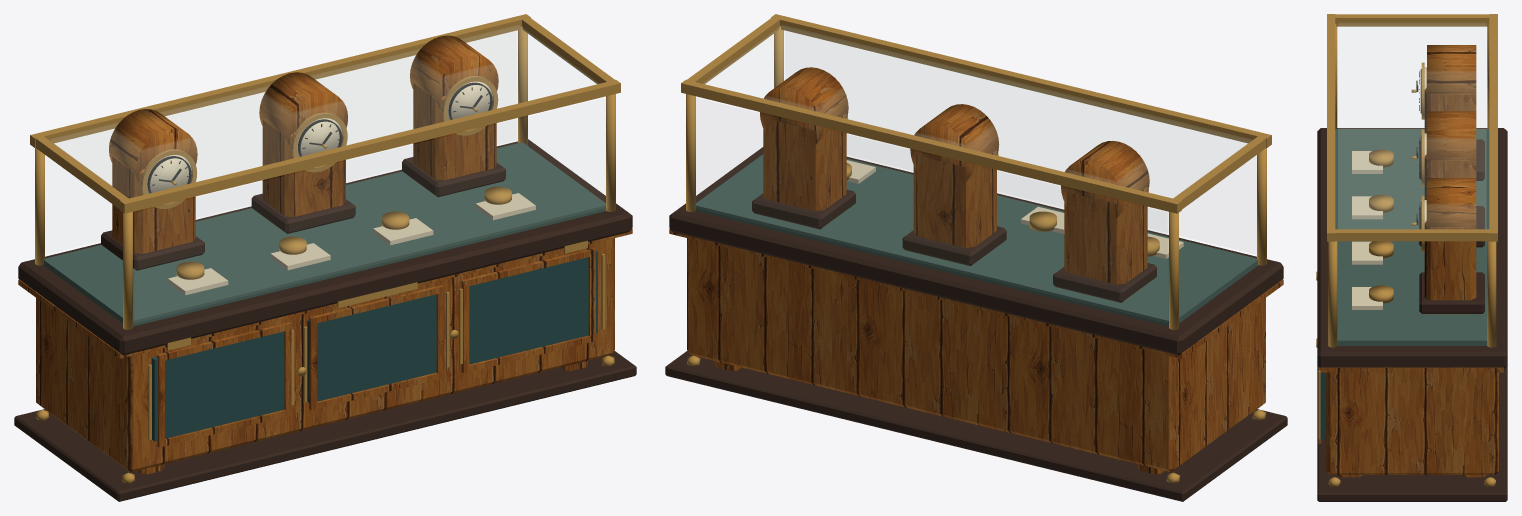
3 views of the same model, side by side, from view 1: azimuth 30°, elevation 25°; view 2: azimuth 150°, elevation 25°; view 3: azimuth 270°, elevation 25° (orthographic). The views are drawn at different scales.
Parts seen in each view (by area): view 1: clockshop_walnut, clockshop_clear_glass, clockshop_felt, clockshop_teal, clockshop_brass, clockshop_darkwood, clockshop_darkwood.001, clockshop_walnut.001, clockshop_ivory, clockshop_brass.001, clockshop_ink; view 2: clockshop_walnut, clockshop_clear_glass, clockshop_darkwood, clockshop_brass, clockshop_felt, clockshop_darkwood.001, clockshop_walnut.001, clockshop_ivory; view 3: clockshop_walnut, clockshop_clear_glass, clockshop_felt, clockshop_brass, clockshop_darkwood, clockshop_darkwood.001, clockshop_ivory, clockshop_walnut.001, clockshop_ink, clockshop_teal, clockshop_brass.001.
Part boxes in pixels (x1,y1,x2,y2): clockshop_walnut: [36, 35, 614, 474]; clockshop_clear_glass: [50, 25, 598, 217]; clockshop_felt: [43, 142, 606, 326]; clockshop_teal: [151, 251, 597, 441]; clockshop_brass: [30, 14, 620, 439]; clockshop_darkwood: [18, 139, 632, 355]; clockshop_darkwood.001: [14, 350, 636, 501]; clockshop_walnut.001: [18, 228, 632, 447]; clockshop_ivory: [146, 81, 535, 295]; clockshop_brass.001: [36, 240, 614, 483]; clockshop_ink: [147, 82, 492, 193]; clockshop_walnut: [687, 67, 1265, 474]; clockshop_clear_glass: [703, 25, 1251, 232]; clockshop_darkwood: [669, 147, 1283, 355]; clockshop_brass: [681, 14, 1271, 329]; clockshop_felt: [695, 154, 1258, 326]; clockshop_darkwood.001: [665, 350, 1287, 501]; clockshop_walnut.001: [669, 228, 1283, 358]; clockshop_ivory: [846, 160, 1183, 258]; clockshop_walnut: [1326, 45, 1498, 477]; clockshop_clear_glass: [1338, 23, 1485, 228]; clockshop_felt: [1335, 129, 1489, 345]; clockshop_brass: [1318, 14, 1497, 439]; clockshop_darkwood: [1317, 128, 1507, 368]; clockshop_darkwood.001: [1317, 366, 1507, 501]; clockshop_ivory: [1352, 67, 1426, 309]; clockshop_walnut.001: [1318, 367, 1503, 443]; clockshop_ink: [1416, 69, 1421, 246]; clockshop_teal: [1320, 372, 1325, 439]; clockshop_brass.001: [1316, 271, 1495, 486].
Size of the model in its own units: 3.14 by 1.75 by 1.11.
8 materials, 1 textured.
